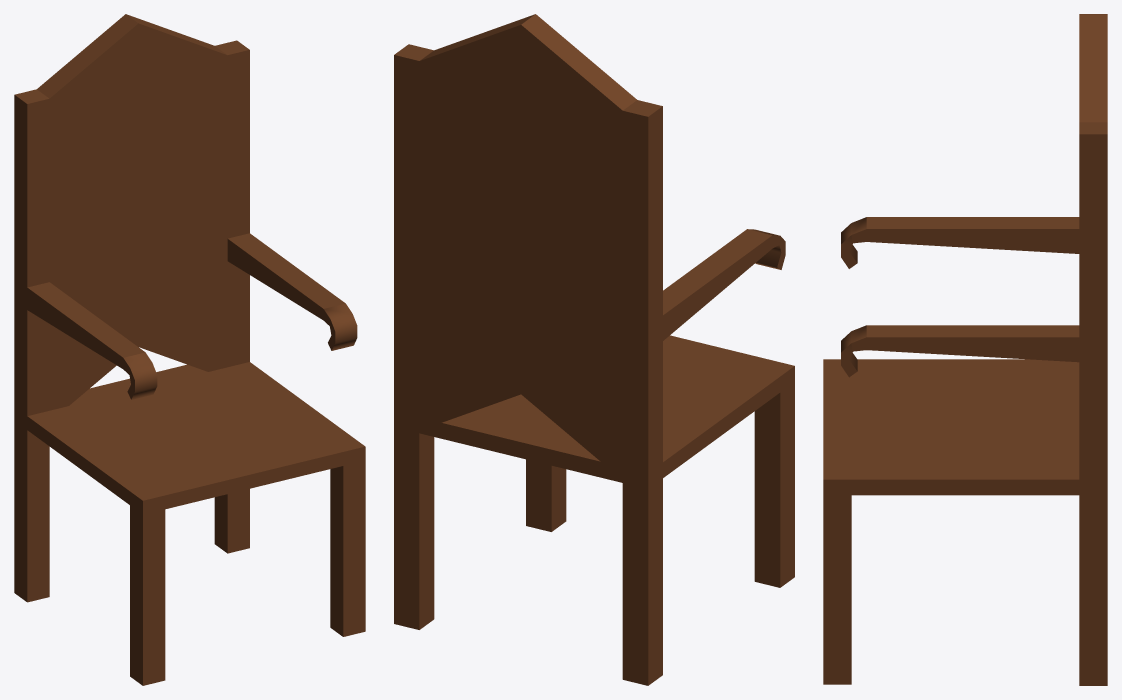
Rendered from Chair-v2.fbx.
The picture shows the model from 3 angles, left to right: view 1: azimuth 30°, elevation 25°; view 2: azimuth 150°, elevation 25°; view 3: azimuth 270°, elevation 25°; orthographic projection. The views are drawn at different scales.
Parts seen in each view (by area): view 1: Chair2; view 2: Chair2; view 3: Chair2.
Boxes of the visible parts, x1,y1,x2,y2 form: Chair2: [14, 14, 365, 685]; Chair2: [394, 14, 794, 685]; Chair2: [823, 14, 1107, 685].
Bounding box in the file's own units: 100 × 237 × 100.
